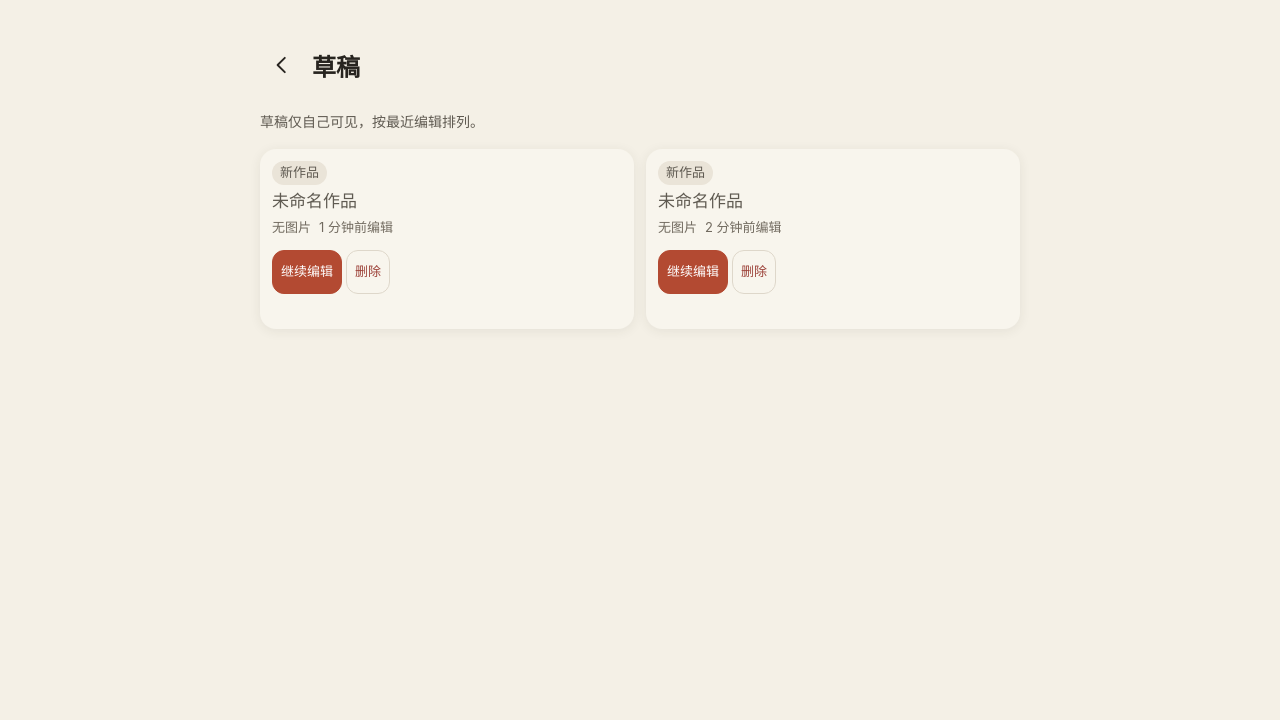
Scenario: Drafts picker › announces through a live region that is present before anything is said
The width and height of the screenshot is (1280, 720).
What coordinates should you click on to do the following:
click the button "删除" below "1 分钟前编辑"
I would click on:
 (368, 272)
Its box is [346, 250, 390, 294].
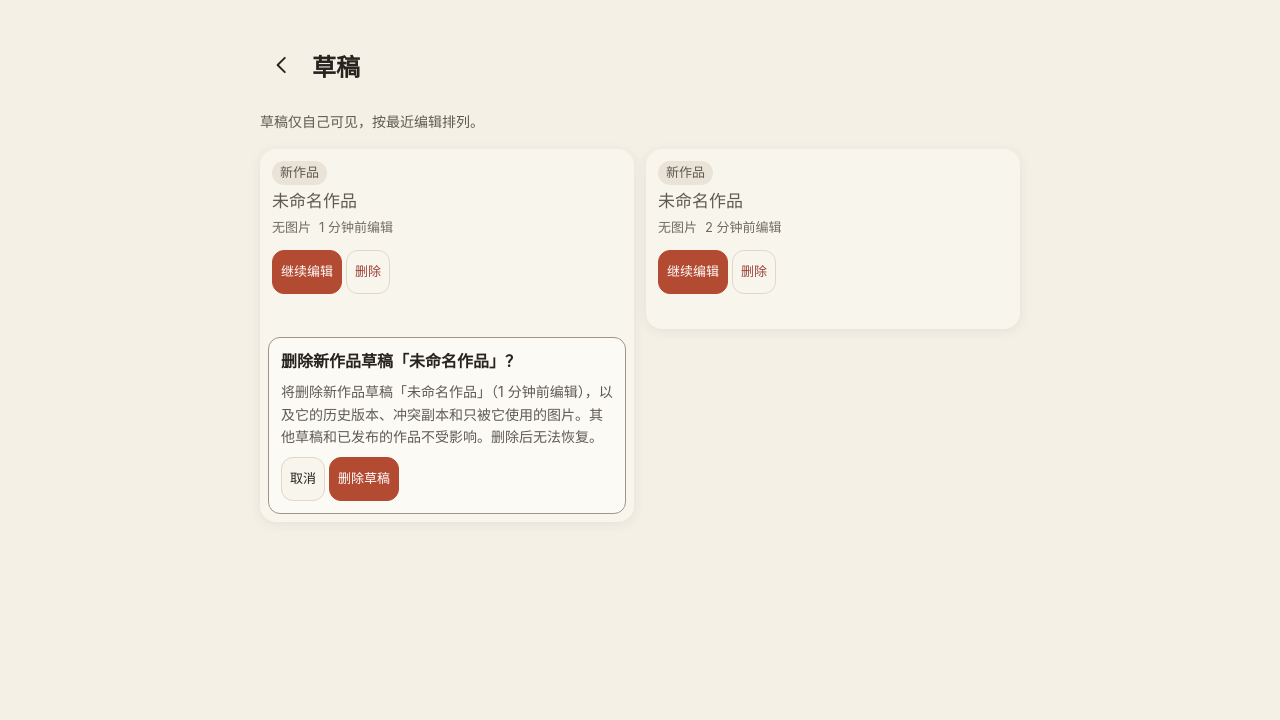
What coordinates should you click on to do the following:
click the button "删除草稿"
I would click on:
 (364, 479)
Its box is [329, 457, 399, 501].
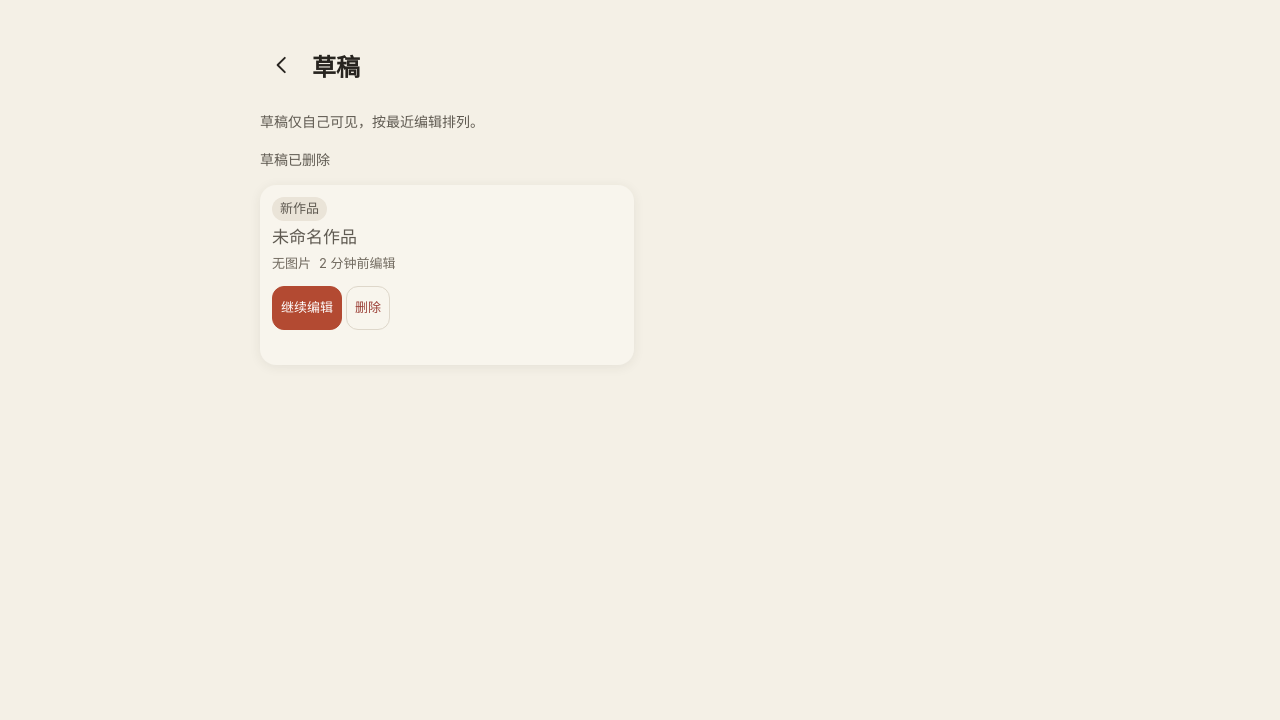
Check: the message "草稿已删除" is shown, box [260, 151, 330, 168]
